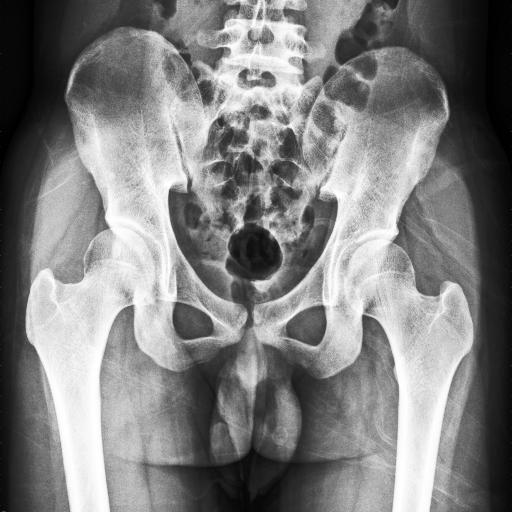normal: (26, 226, 155, 512), (345, 239, 474, 512)
